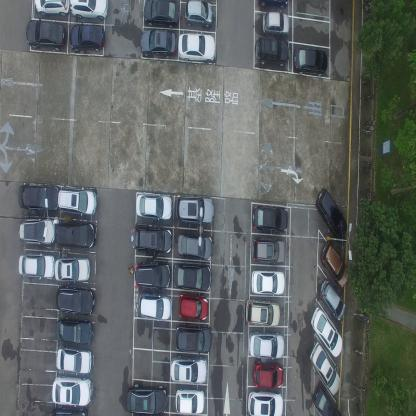car: (311, 306, 344, 361), (310, 343, 342, 398), (315, 186, 347, 239), (320, 240, 350, 290), (126, 382, 167, 415), (175, 193, 215, 226), (24, 16, 64, 49), (130, 223, 172, 254), (319, 278, 347, 324), (51, 376, 92, 407), (55, 186, 97, 216), (178, 31, 216, 64), (175, 322, 212, 355), (176, 230, 214, 262), (140, 27, 177, 59), (170, 356, 208, 387), (17, 183, 59, 211), (55, 287, 95, 316), (246, 297, 281, 330), (292, 46, 328, 78), (173, 262, 211, 292), (255, 36, 290, 68), (56, 221, 96, 249), (134, 192, 172, 221), (69, 22, 105, 52), (252, 236, 287, 266), (249, 331, 284, 361), (134, 261, 170, 290), (252, 204, 289, 232), (55, 318, 91, 346), (18, 218, 55, 245), (18, 251, 55, 278), (142, 0, 180, 26), (56, 347, 92, 374), (312, 384, 342, 416), (252, 269, 286, 297), (137, 295, 172, 322), (54, 256, 90, 282), (248, 389, 284, 415), (253, 362, 284, 392), (178, 290, 209, 320), (175, 386, 205, 416), (183, 0, 213, 27), (68, 0, 108, 19), (263, 10, 290, 35), (33, 0, 68, 15), (48, 407, 88, 415), (257, 0, 288, 10)
